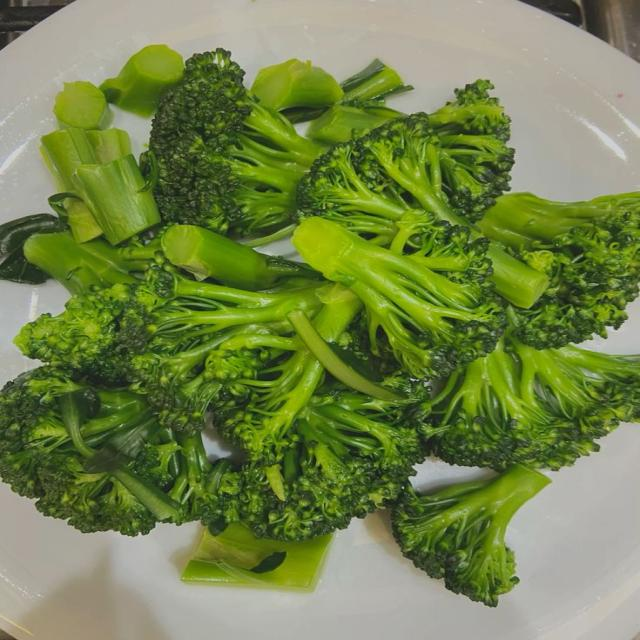broccoli: (15, 227, 320, 384), (218, 349, 429, 540), (0, 367, 236, 535), (293, 211, 506, 378), (116, 264, 324, 432), (150, 49, 323, 235), (0, 367, 181, 535), (431, 328, 639, 469), (479, 193, 639, 349), (297, 114, 512, 230), (392, 465, 550, 606), (429, 80, 510, 140)
